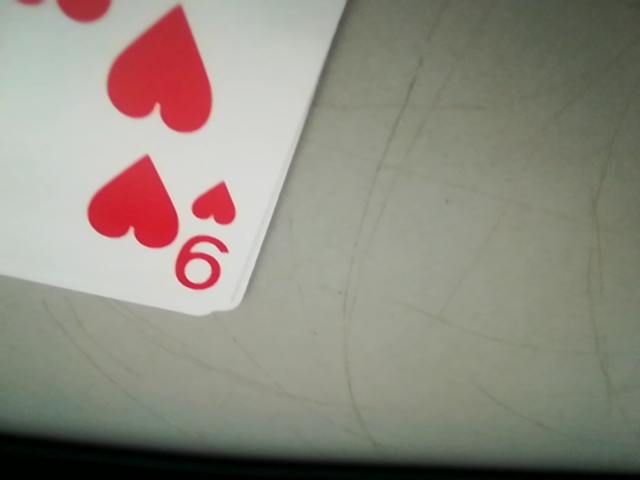hx 9: (175, 176, 238, 299)
